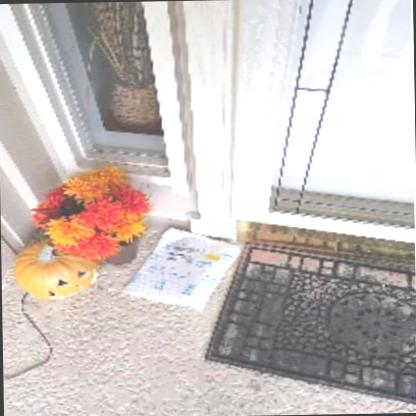plastic_bag: (119, 223, 244, 313)
